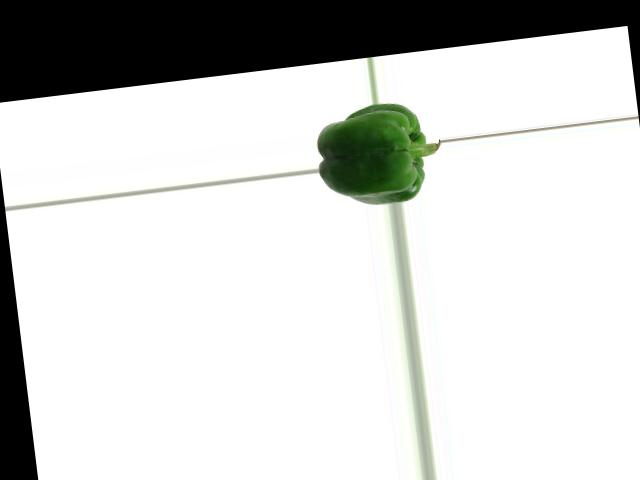bell_pepper: (311, 97, 444, 209)
